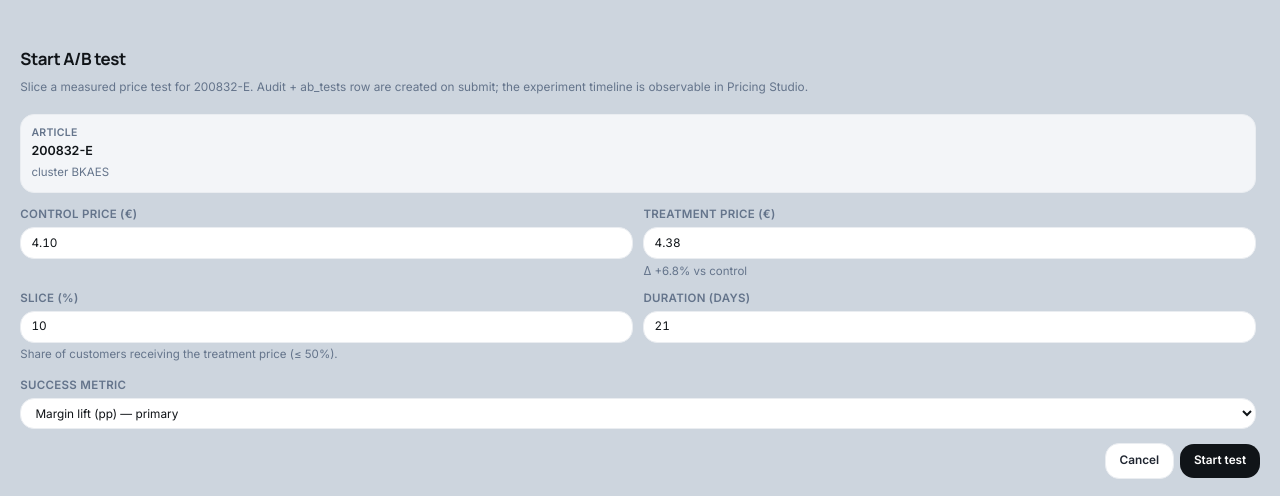
it: AbSetupForm › renders the blocked receipt with the blocker list (Phase 7)
Step 1. Click the button "Start test" → (1220, 461), box [1180, 444, 1260, 478]
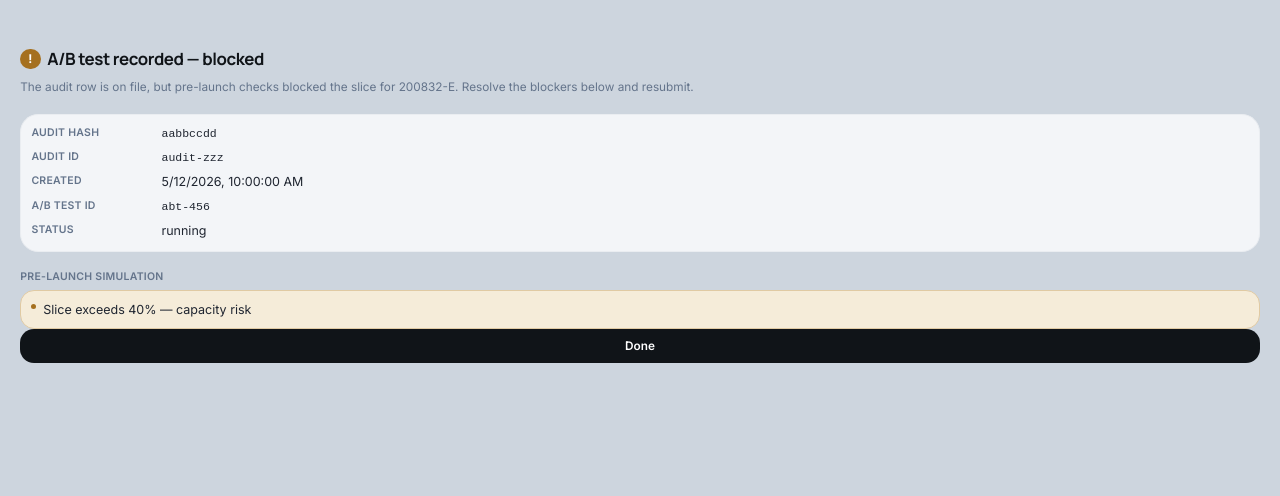
Expected: the element with test id "ab-receipt" is shown
Expected: the heading "A/B test recorded — blocked" is shown, [47, 47, 264, 71]
Expected: the text "Slice exceeds 40% — capacity risk" is shown, [43, 301, 252, 318]
